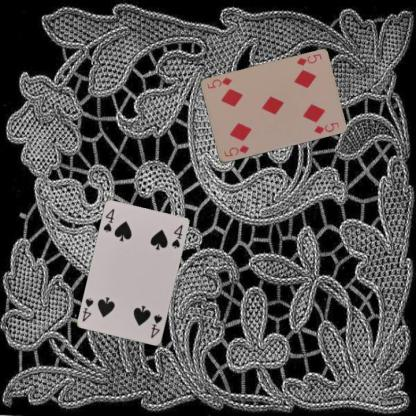4s: (148, 312, 164, 340), (101, 206, 116, 234)
5d: (294, 51, 323, 68), (221, 143, 250, 158)
